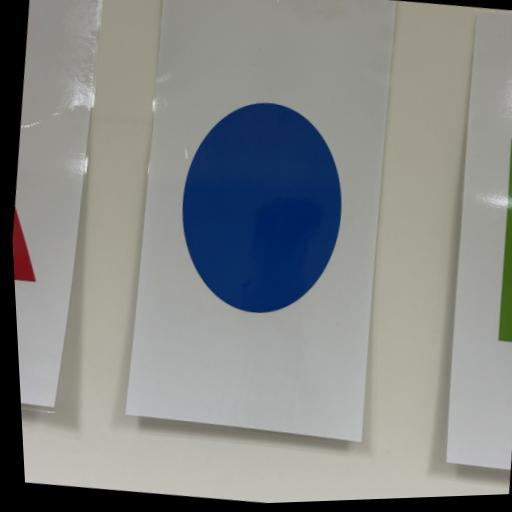blue_circle: (160, 87, 362, 326)
